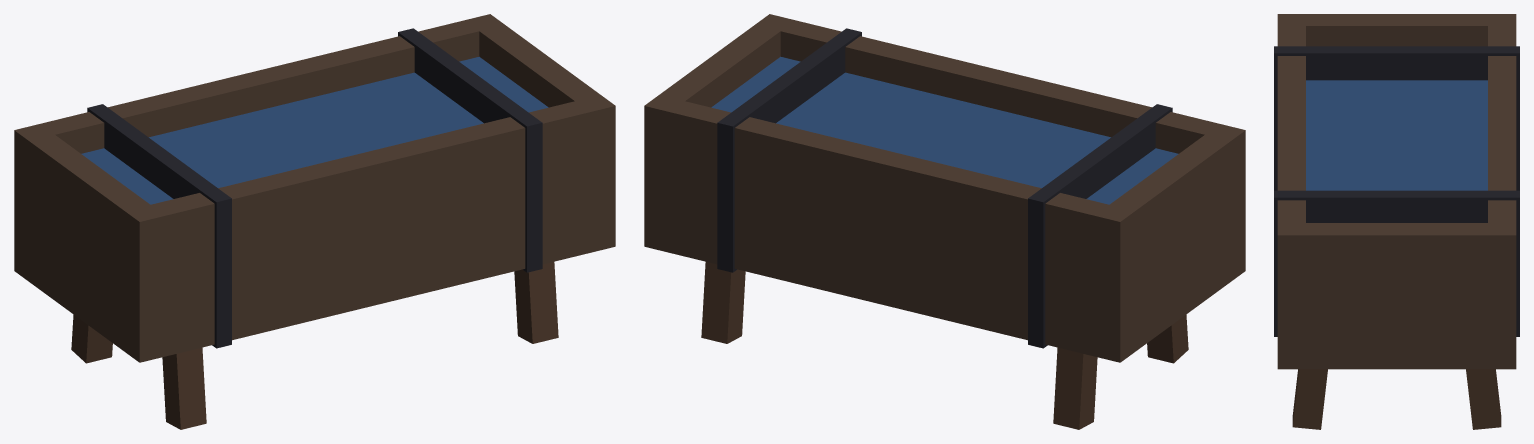
The model's file is trough.glb.
3 renders of one model, left to right at view 1: azimuth 30°, elevation 25°; view 2: azimuth 150°, elevation 25°; view 3: azimuth 270°, elevation 25°, orthographic. The views are drawn at different scales.
Visible parts, largest first — view 1: trough; view 2: trough; view 3: trough.
Boxes of the visible parts, x1,y1,x2,y2 form: trough: [14, 14, 615, 429]; trough: [644, 14, 1245, 429]; trough: [1274, 14, 1519, 429].
Size of the model in its own units: 0.92 by 0.4272 by 0.432.
